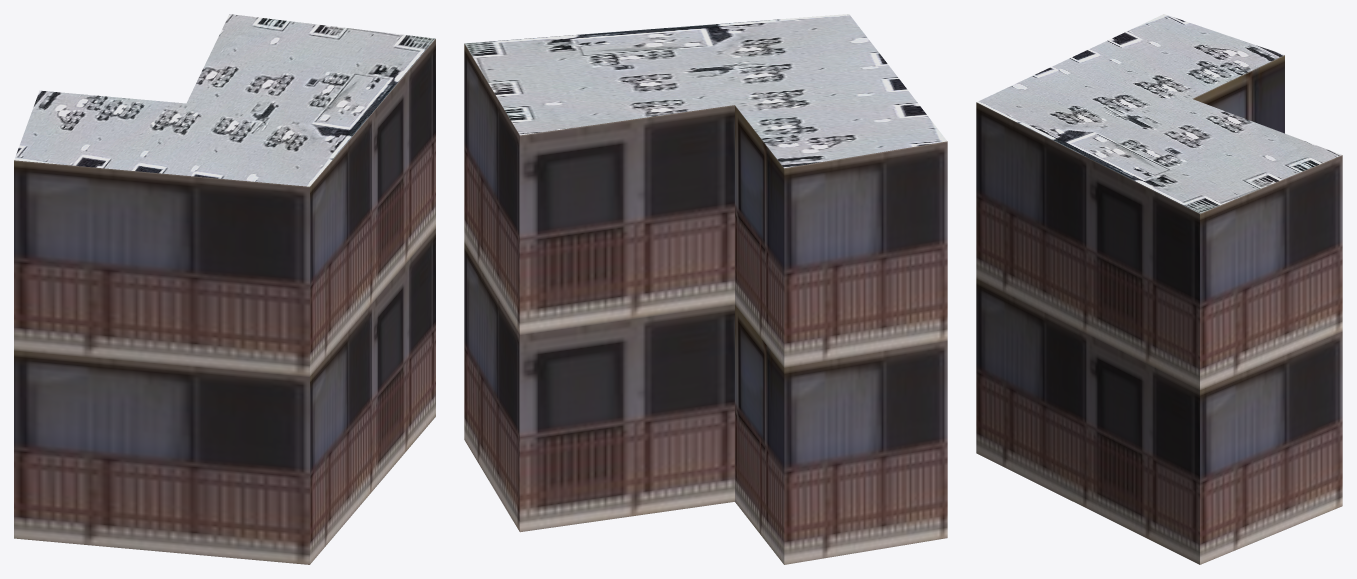
The model's file is ResTex__510.fbx.
The picture shows the model from 3 angles, left to right: view 1: azimuth 30°, elevation 25°; view 2: azimuth 150°, elevation 25°; view 3: azimuth 270°, elevation 25°; orthographic projection. The views are drawn at different scales.
Parts seen in each view (by area): view 1: CityEngineMaterial_6_m, CityEngineMaterial_8_m; view 2: CityEngineMaterial_6_m, CityEngineMaterial_8_m; view 3: CityEngineMaterial_6_m, CityEngineMaterial_8_m.
Part boxes in pixels (box(x1,y1,x2,y2)): CityEngineMaterial_6_m: box(14, 39, 435, 564); CityEngineMaterial_8_m: box(14, 14, 435, 186); CityEngineMaterial_6_m: box(464, 43, 947, 564); CityEngineMaterial_8_m: box(464, 14, 946, 168); CityEngineMaterial_6_m: box(976, 55, 1342, 564); CityEngineMaterial_8_m: box(977, 14, 1341, 213).
Bounding box in the file's own units: 7.32 × 6 × 5.67.
2 materials, 2 textured.
